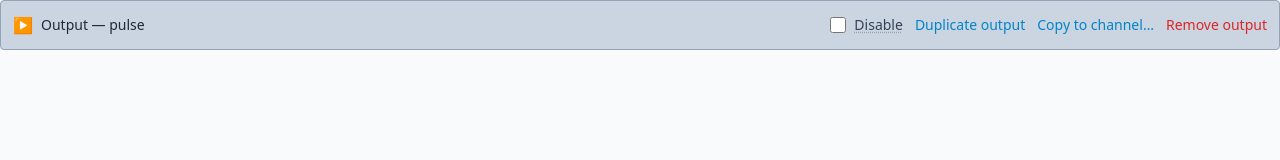
Test: OutputEditor copy to channel › closes the picker without copying on Cancel
Click the button "Copy to channel…" at (1096, 25), box [1037, 15, 1154, 35]
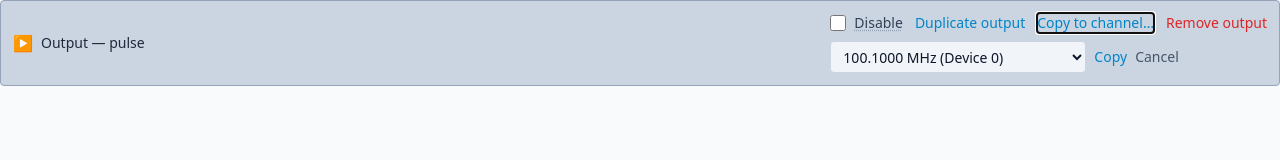
Click the button "Cancel" at (1157, 57), box [1135, 47, 1179, 67]
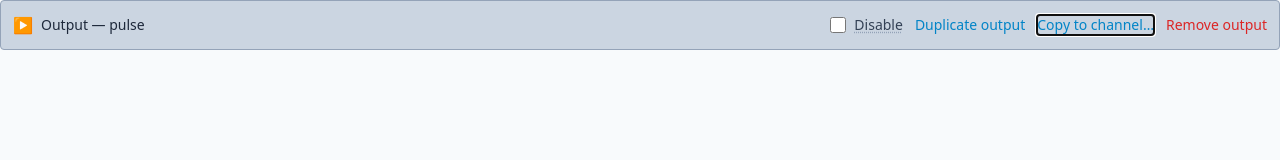
Result: the dropdown is gone
